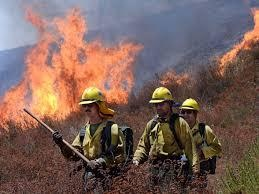fire: (0, 5, 142, 122), (211, 3, 258, 74), (153, 64, 194, 91)
